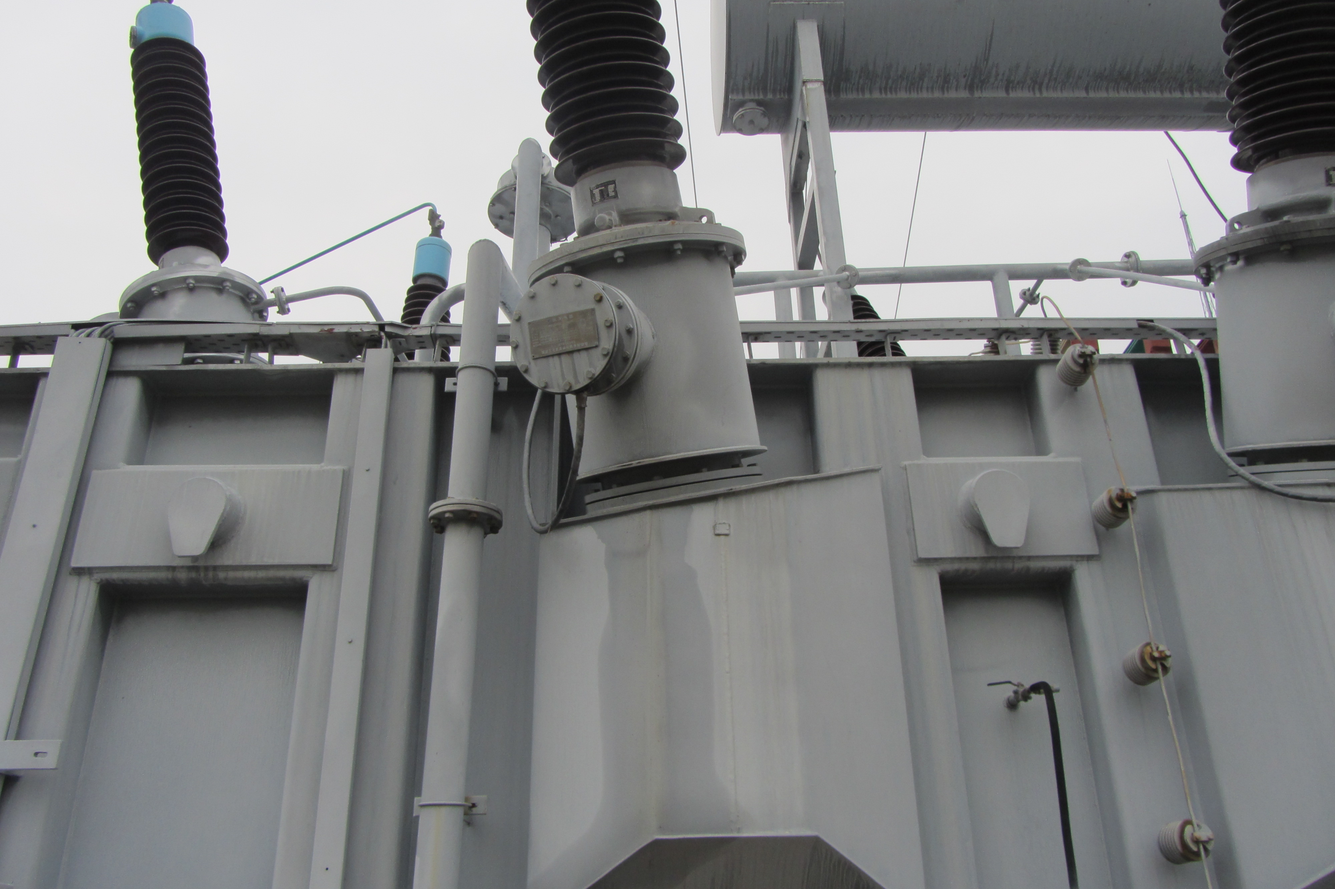cysb_sgz: (501, 217, 779, 547), (1187, 202, 1335, 454), (114, 263, 270, 351)
sly_bjbmyw: (505, 203, 761, 889), (48, 261, 337, 618), (1185, 195, 1335, 279)
